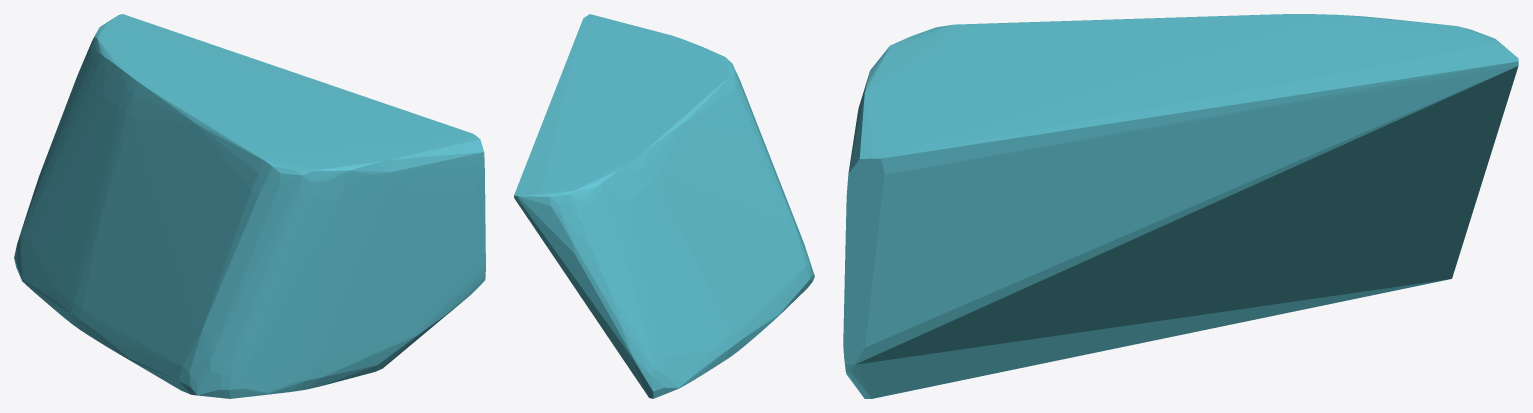
File: left-shin-0_part_2.obj
The picture shows the model from 3 angles, left to right: view 1: azimuth 30°, elevation 25°; view 2: azimuth 150°, elevation 25°; view 3: azimuth 270°, elevation 25°; orthographic projection. The views are drawn at different scales.
Bounding box in the file's own units: 0.0457 × 0.0325 × 0.0632.
